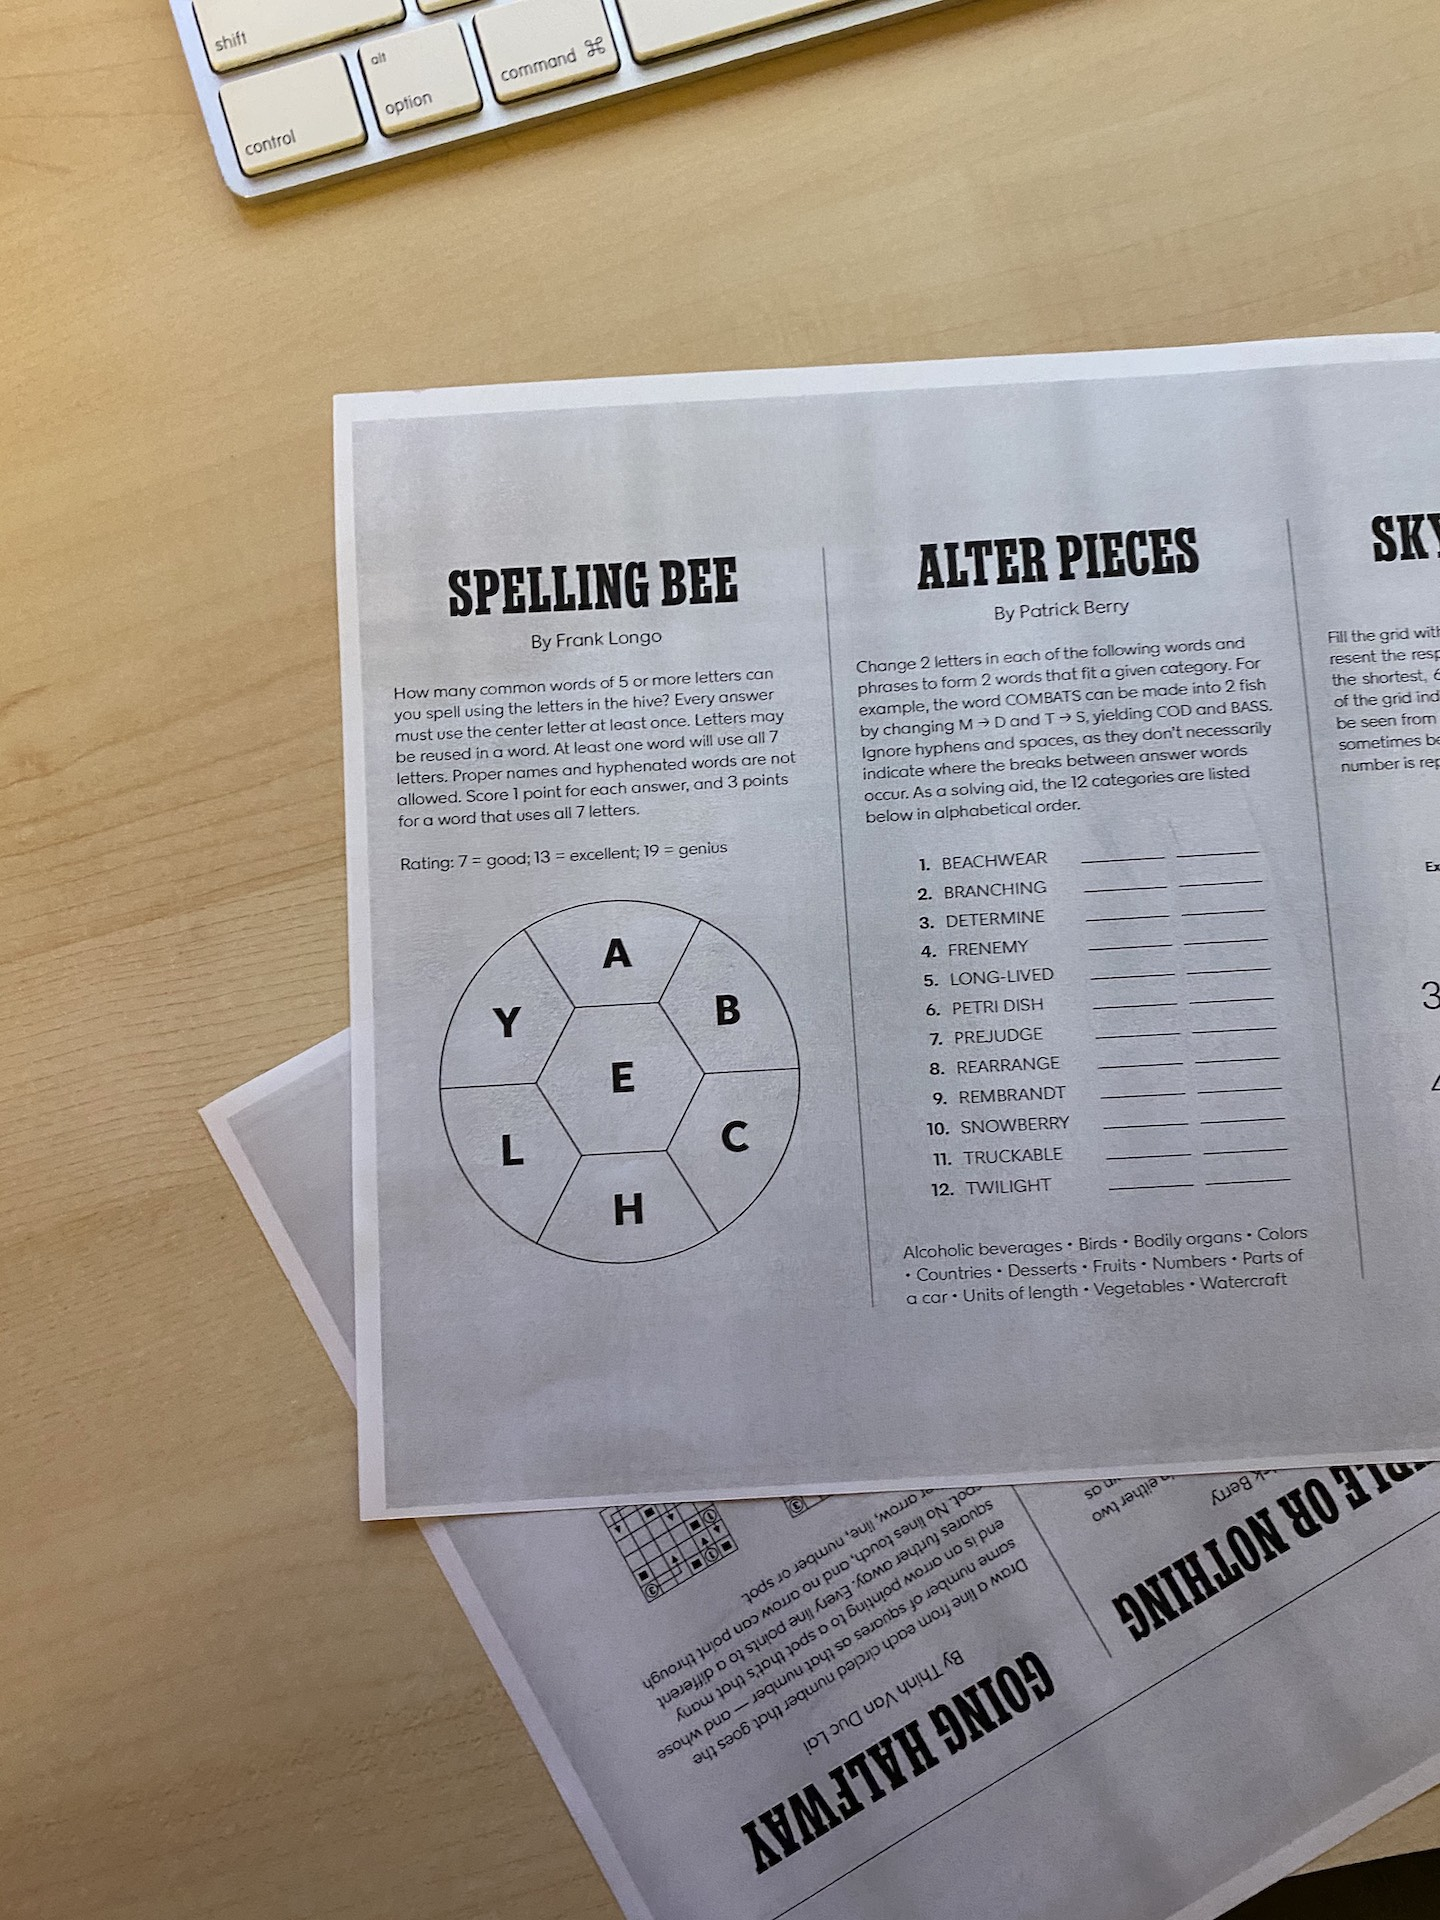PrintBoard: (425, 893, 814, 1281)
